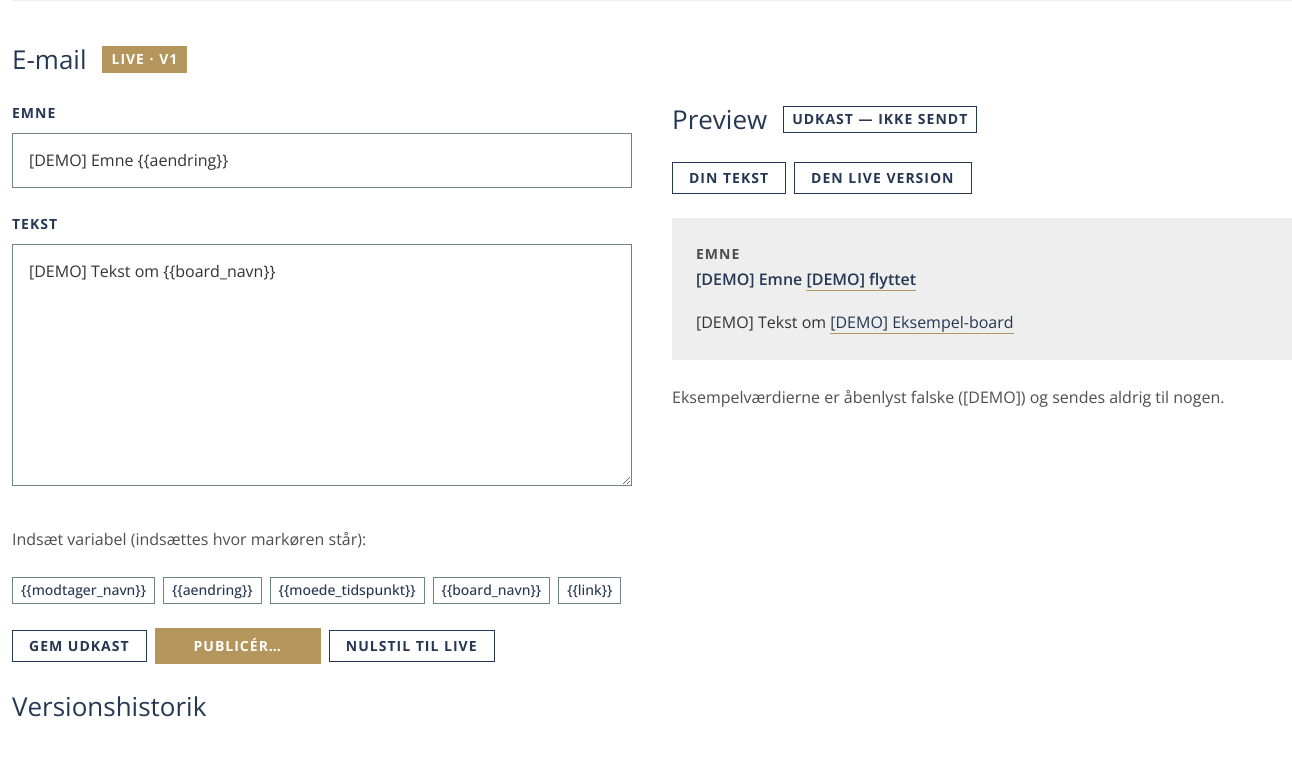
Test: TemplateEditor — live preview (eksplicit krav) › indsætter en variabel i teksten ved at klikke på dens chip
Replace the text in the text box labelled "Tekst" with "AB" at (322, 365), box top-left (12, 244), bottom-right (632, 486)
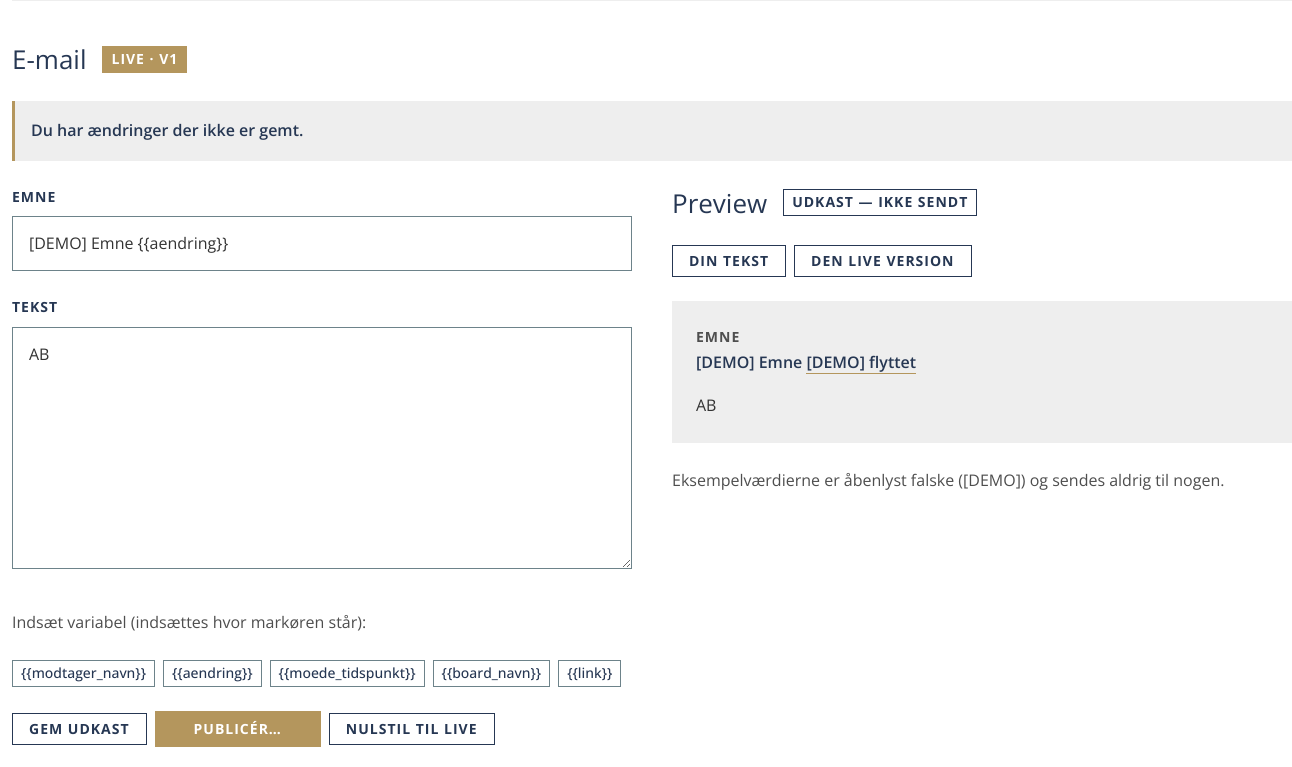
Click the button "{{board_navn}}" at (491, 674), box top-left (433, 660), bottom-right (550, 687)
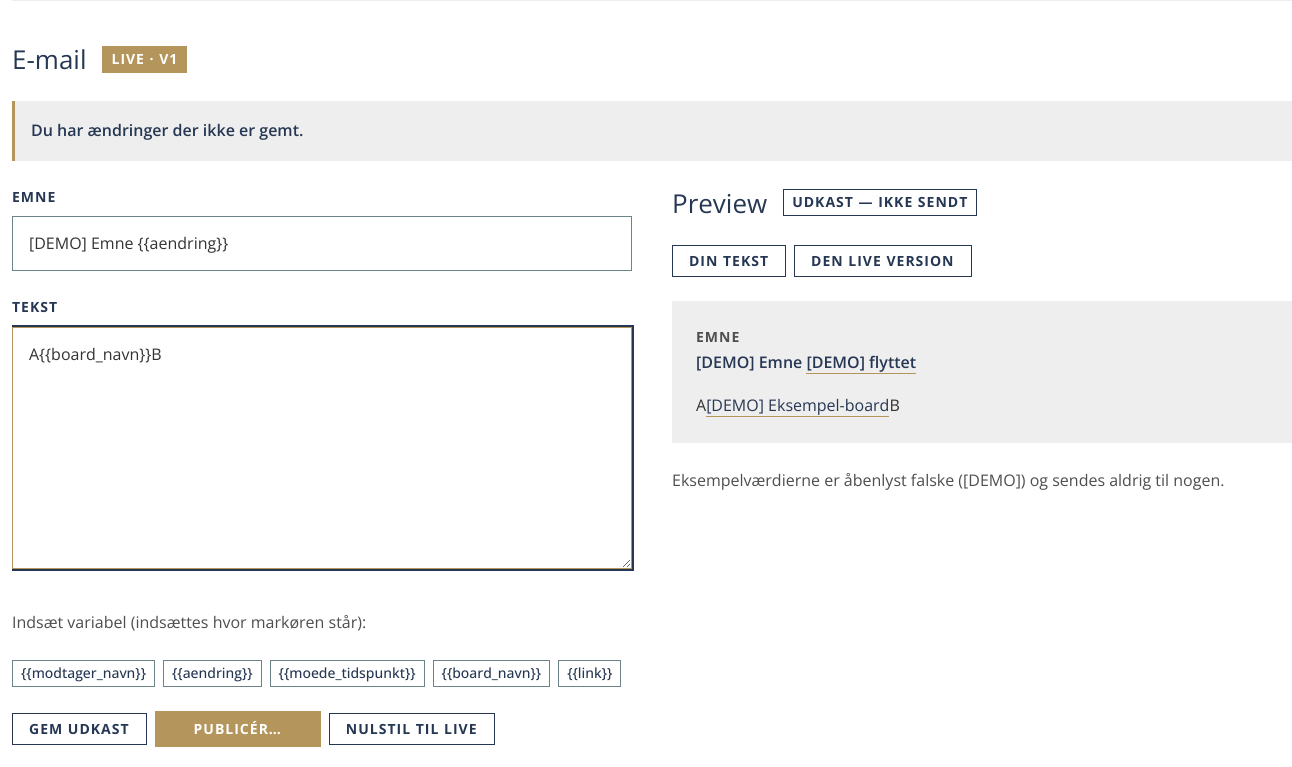
Result: the text box labelled "Tekst" holds "A{{board_navn}}B" at top-left (12, 327), bottom-right (632, 569)
